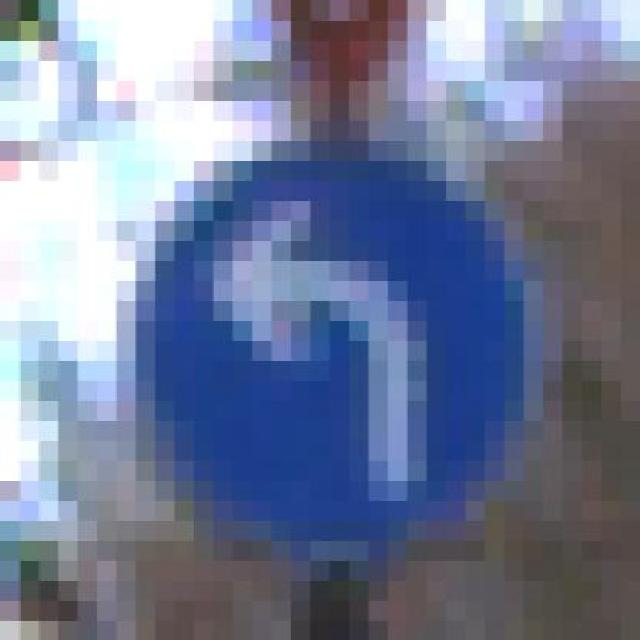Turn left ahead: (97, 120, 543, 560)
